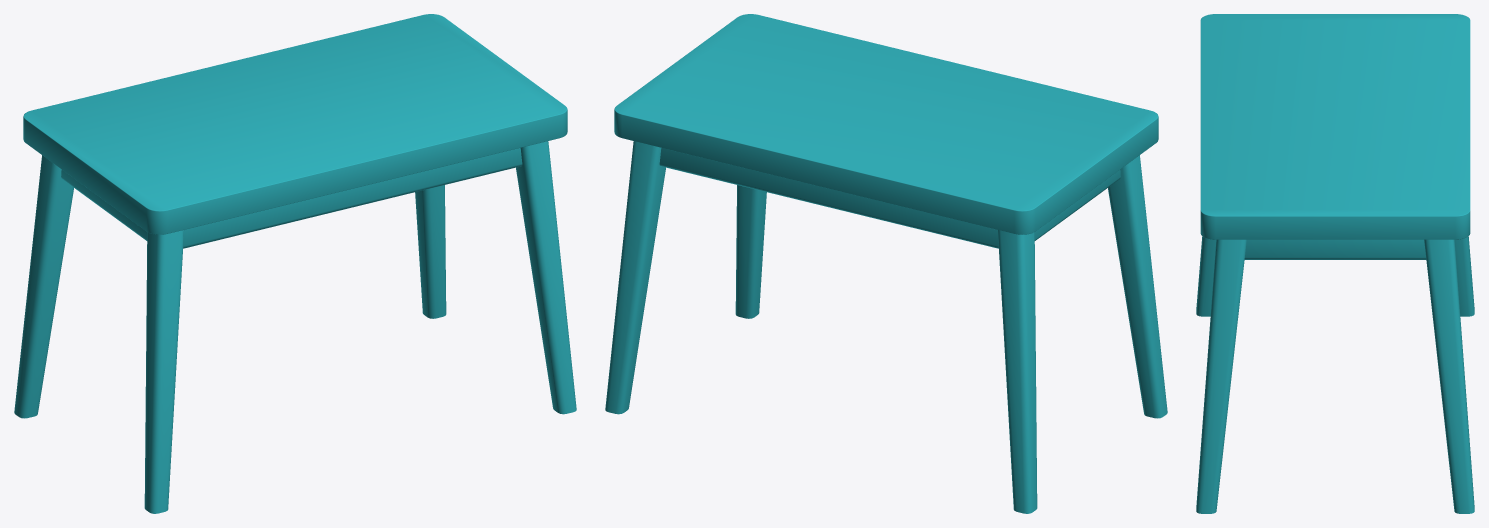
The model's file is mesa_jantar_pes_chanfrados_turquesa.glb.
3 renders of one model, left to right at view 1: azimuth 30°, elevation 25°; view 2: azimuth 150°, elevation 25°; view 3: azimuth 270°, elevation 25°, orthographic.
Visible parts, largest first — view 1: mesa_jantar_pes_chanfrados_turquesa; view 2: mesa_jantar_pes_chanfrados_turquesa; view 3: mesa_jantar_pes_chanfrados_turquesa.
Part boxes in pixels (x1,y1,x2,y2): mesa_jantar_pes_chanfrados_turquesa: [14, 14, 576, 513]; mesa_jantar_pes_chanfrados_turquesa: [605, 14, 1167, 513]; mesa_jantar_pes_chanfrados_turquesa: [1196, 14, 1474, 513].
Size of the model in its own units: 1.12 by 0.75 by 0.6397.
1 material, 1 textured.
